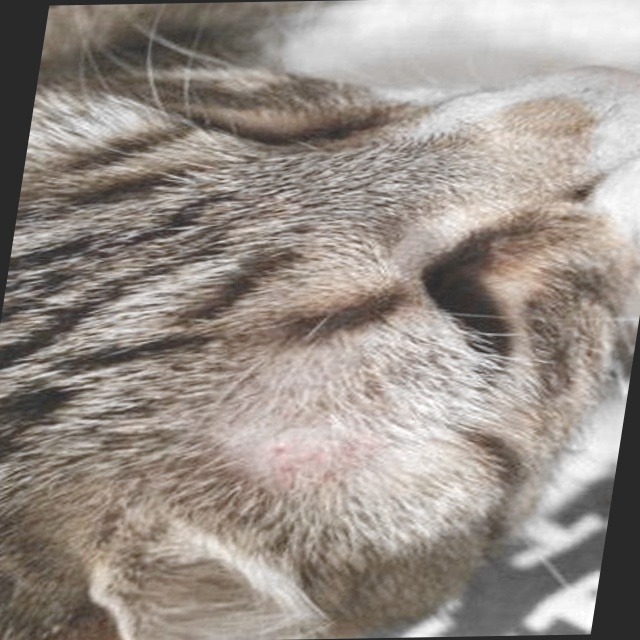ringworm: (210, 373, 431, 489)
